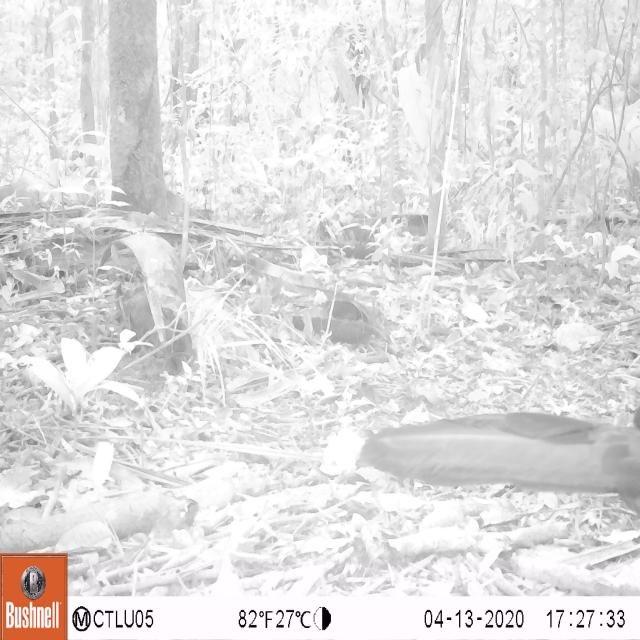Spixs Guan: (357, 402, 640, 514)
